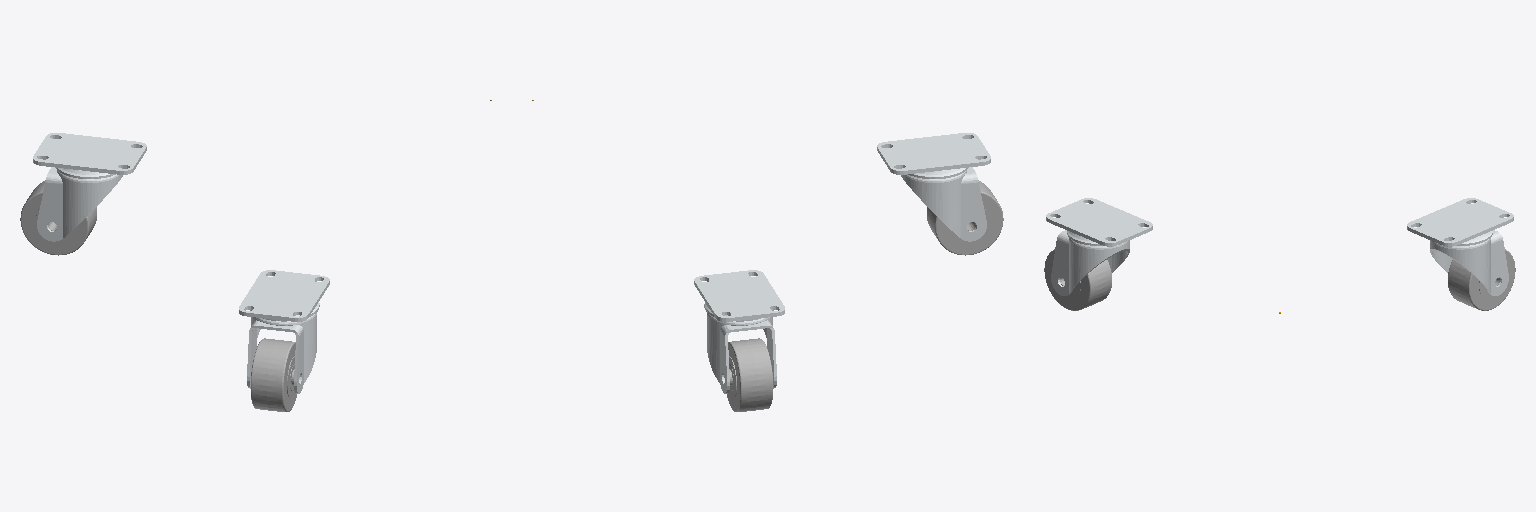
URDF robot description (Shared_Assembly_Robot_URDF):
<?xml version="1.0" encoding="utf-8"?>
<!-- This URDF was automatically created by SolidWorks to URDF Exporter! Originally created by [author] ([email redacted]) 
     Commit Version: 1.6.0-4-g7f85cfe  Build Version: 1.6.7995.38578
     For more information, please see http://wiki.ros.org/sw_urdf_exporter -->
<robot
  name="Shared_Assembly_Robot_URDF">
<link name="base_footprint">
    <visual>
        <origin xyz="0 0 0" rpy="0 0 0" />
        <geometry>
            <box size="0.001 0.001 0.001" />
        </geometry>
    </visual>
</link>

<joint name="base_footprint_joint" type="fixed">
    <origin xyz="0 0 0.001" rpy="0 0 0" />
    <parent link="base_footprint"/>
    <child link="base_link" />
</joint>

  <link
    name="base_link">
    <inertial>
      <origin
        xyz="-0.14743 -0.00064615 0.027414"
        rpy="0 0 0" />
      <mass
        value="10.319" />
      <inertia
        ixx="0.14128"
        ixy="-1.02E-07"
        ixz="-0.0013572"
        iyy="0.14302"
        iyz="6.92E-08"
        izz="0.27183" />
    </inertial>
    <visual>
      <origin
        xyz="0 0 0"
        rpy="0 0 0" />
      <geometry>
        <mesh
          filename="package://my_bot/urdf/meshes/visual/base_link.STL" />
      </geometry>
      <material
        name="">
        <color
          rgba="1 0 0 1" />
      </material>
    </visual>
    <collision>
      <origin
        xyz="0 0 0"
        rpy="0 0 0" />
      <geometry>
        <mesh
          filename="package://my_bot/urdf/meshes/visual/base_link.STL" />
      </geometry>
    </collision>
  </link>
  <link
    name="right_wheel">
    <inertial>
      <origin
        xyz="-3.13E-08 1.67E-07 0.01837713"
        rpy="0 0 0" />
      <mass
        value="0.454027315" />
      <inertia
        ixx="0.00120506"
        ixy="-6.74E-09"
        ixz="-2.65E-10"
        iyy="0.001205041"
        iyz="7.37E-10"
        izz="0.002290365" />
    </inertial>
    <visual>
      <origin
        xyz="0 0 0"
        rpy="0 0 0" />
      <geometry>
        <mesh
          filename="package://my_bot/urdf/meshes/visual/right_wheel.STL" />
      </geometry>
      <material
        name="">
        <color
          rgba="1 0 0 1" />
      </material>
    </visual>
    <collision>
      <origin
        xyz="0 0 0"
        rpy="0 0 0" />
      <geometry>
        <mesh
          filename="package://my_bot/urdf/meshes/visual/right_wheel.STL" />
      </geometry>
    </collision>
  </link>
  <joint
    name="rightwheel"
    type="continuous">
    <origin
      xyz="0 -0.2881 -0.06135"
      rpy="-1.5708 0 0" />
    <parent
      link="base_link" />
    <child
      link="right_wheel" />
    <axis
      xyz="0 0 1" />
    <limit
      effort="10"
      velocity="10" />
  </joint>
  <link
    name="left_wheel">
    <inertial>
      <origin
        xyz="2.99E-08 1.64E-07 -0.018377129"
        rpy="0 0 0" />
      <mass
        value="0.454027333" />
      <inertia
        ixx="0.00120506"
        ixy="6.67E-09"
        ixz="-2.51E-10"
        iyy="0.001205041"
        iyz="-7.22E-10"
        izz="0.002290365" />
    </inertial>
    <visual>
      <origin
        xyz="0 0 0"
        rpy="0 0 0" />
      <geometry>
        <mesh
          filename="package://my_bot/urdf/meshes/visual/left_wheel.STL" />
      </geometry>
      <material
        name="">
        <color
          rgba="0.752941176470588 0.752941176470588 0.752941176470588 1" />
      </material>
    </visual>
    <collision>
      <origin
        xyz="0 0 0"
        rpy="0 0 0" />
      <geometry>
        <mesh
          filename="package://my_bot/urdf/meshes/visual/left_wheel.STL" />
      </geometry>
    </collision>
  </link>
  <joint
    name="leftwheel"
    type="continuous">
    <origin
      xyz="0 0.2881 -0.06135"
      rpy="-1.5708 0 0" />
    <parent
      link="base_link" />
    <child
      link="left_wheel" />
    <axis
      xyz="0 0 -1" />
    <limit
      effort="10"
      velocity="10" />
  </joint>
  <link
    name="right_caster">
    <inertial>
      <origin
        xyz="-0.00189288936391879 -0.00189303217564021 -0.0154486692656115"
        rpy="0 0 0" />
      <mass
        value="0.201926777784479" />
      <inertia
        ixx="0.000122320156904671"
        ixy="-7.44295460927258E-06"
        ixz="-1.34595075717568E-05"
        iyy="0.000122320567060589"
        iyz="-1.34595571117696E-05"
        izz="0.000137634108009547" />
    </inertial>
    <visual>
      <origin
        xyz="0 0 0"
        rpy="0 0 0" />
      <geometry>
        <mesh
          filename="package://my_bot/urdf/meshes/visual/right_caster.STL" />
      </geometry>
      <material
        name="">
        <color
          rgba="0.898039215686275 0.917647058823529 0.929411764705882 1" />
      </material>
    </visual>
    <collision>
      <origin
        xyz="0 0 0"
        rpy="0 0 0" />
      <geometry>
        <mesh
          filename="package://my_bot/urdf/meshes/visual/right_caster.STL" />
      </geometry>
    </collision>
  </link>
  <joint
    name="rightcaster"
    type="continuous">
    <origin
      xyz="-0.31085 -0.17225 -0.048509"
      rpy="0 0 0" />
    <parent
      link="base_link" />
    <child
      link="right_caster" />
    <axis
      xyz="0 0 1" />
    <limit
      effort="10"
      velocity="10" />
  </joint>
  <link
    name="right_caster_wheel">
    <inertial>
      <origin
        xyz="0 0 -2.77555756156289E-17"
        rpy="0 0 0" />
      <mass
        value="0.0952572284399531" />
      <inertia
        ixx="3.95975514183799E-05"
        ixy="-2.23373147103173E-20"
        ixz="-8.05917790634335E-06"
        iyy="3.15383735120366E-05"
        iyz="2.46467311777879E-20"
        izz="3.95975514183799E-05" />
    </inertial>
    <visual>
      <origin
        xyz="0 0 0"
        rpy="0 0 0" />
      <geometry>
        <mesh
          filename="package://my_bot/urdf/meshes/visual/right_caster_wheel.STL" />
      </geometry>
      <material
        name="">
        <color
          rgba="0.752941176470588 0.752941176470588 0.752941176470588 1" />
      </material>
    </visual>
    <collision>
      <origin
        xyz="0 0 0"
        rpy="0 0 0" />
      <geometry>
        <mesh
          filename="package://my_bot/urdf/meshes/visual/right_caster_wheel.STL" />
      </geometry>
    </collision>
  </link>
  <joint
    name="rightcasterwheel"
    type="continuous">
    <origin
      xyz="-0.020116 -0.020116 -0.066675"
      rpy="-1.5708 0 0" />
    <parent
      link="right_caster" />
    <child
      link="right_caster_wheel" />
    <axis
      xyz="-0.70711 0 0.70711" />
    <limit
      effort="10"
      velocity="10" />
  </joint>
  <link
    name="left_caster">
    <inertial>
      <origin
        xyz="-0.0018930326533278 0.00189288874338733 -0.0154486695307401"
        rpy="0 0 0" />
      <mass
        value="0.201926785403223" />
      <inertia
        ixx="0.000122320571002746"
        ixy="7.44295463657139E-06"
        ixz="-1.34595580196749E-05"
        iyy="0.000122320160007248"
        iyz="1.34595064611714E-05"
        izz="0.000137634115077322" />
    </inertial>
    <visual>
      <origin
        xyz="0 0 0"
        rpy="0 0 0" />
      <geometry>
        <mesh
          filename="package://my_bot/urdf/meshes/visual/left_caster.STL" />
      </geometry>
      <material
        name="">
        <color
          rgba="0.898039215686275 0.917647058823529 0.929411764705882 1" />
      </material>
    </visual>
    <collision>
      <origin
        xyz="0 0 0"
        rpy="0 0 0" />
      <geometry>
        <mesh
          filename="package://my_bot/urdf/meshes/visual/left_caster.STL" />
      </geometry>
    </collision>
  </link>
  <joint
    name="leftcaster"
    type="continuous">
    <origin
      xyz="-0.31085 0.17225 -0.048509"
      rpy="0 0 0" />
    <parent
      link="base_link" />
    <child
      link="left_caster" />
    <axis
      xyz="0 0 1" />
    <limit
      effort="10"
      velocity="10" />
  </joint>
  <link
    name="left_caster_wheel">
    <inertial>
      <origin
        xyz="-5.55111512312578E-17 1.38777878078145E-17 2.77555756156289E-17"
        rpy="0 0 0" />
      <mass
        value="0.0952572284399531" />
      <inertia
        ixx="3.95975514183799E-05"
        ixy="-2.87324106914176E-21"
        ixz="8.05917790634335E-06"
        iyy="3.15383735120366E-05"
        iyz="-5.9032804633219E-21"
        izz="3.95975514183799E-05" />
    </inertial>
    <visual>
      <origin
        xyz="0 0 0"
        rpy="0 0 0" />
      <geometry>
        <mesh
          filename="package://my_bot/urdf/meshes/visual/left_caster_wheel.STL" />
      </geometry>
      <material
        name="">
        <color
          rgba="0.752941176470588 0.752941176470588 0.752941176470588 1" />
      </material>
    </visual>
    <collision>
      <origin
        xyz="0 0 0"
        rpy="0 0 0" />
      <geometry>
        <mesh
          filename="package://my_bot/urdf/meshes/visual/left_caster_wheel.STL" />
      </geometry>
    </collision>
  </link>
  <joint
    name="leftcasterwheel"
    type="continuous">
    <origin
      xyz="-0.020116 0.020116 -0.066675"
      rpy="-1.5708 0 0" />
    <parent
      link="left_caster" />
    <child
      link="left_caster_wheel" />
    <axis
      xyz="0.70711 0 0.70711" />
    <limit
      effort="10"
      velocity="10" />
  </joint>
</robot>

--- Render facts (derived) ---
The picture shows the robot from 3 angles, left to right: view 1: azimuth 30°, elevation 25°; view 2: azimuth 150°, elevation 25°; view 3: azimuth 270°, elevation 25°; orthographic projection.
Model Shared_Assembly_Robot_URDF with 8 links and 7 joints (6 continuous, 1 fixed), rooted at base_footprint, posed every joint at zero.
Visible links, largest first — view 1: left_caster, right_caster, right_caster_wheel, left_caster_wheel; view 2: right_caster, left_caster, left_caster_wheel, right_caster_wheel; view 3: right_caster, left_caster, right_caster_wheel, left_caster_wheel.
Link boxes in pixels (box(x1,y1,x2,y2)): left_caster: box(33, 133, 146, 241); right_caster: box(239, 270, 329, 393); right_caster_wheel: box(251, 338, 296, 411); left_caster_wheel: box(20, 180, 96, 255); right_caster: box(877, 133, 990, 241); left_caster: box(694, 270, 784, 393); left_caster_wheel: box(727, 338, 772, 411); right_caster_wheel: box(927, 180, 1003, 255); right_caster: box(1046, 198, 1152, 295); left_caster: box(1407, 198, 1513, 295); right_caster_wheel: box(1044, 249, 1111, 310); left_caster_wheel: box(1448, 249, 1515, 310).
Bounding box of the posed robot: 0.3638 × 0.4495 × 0.1464 m (x, y, z).
Meshes: 7 distinct files referenced, 4 mesh visuals loaded (4 binary STL); not drawn: 3 (reference not matched to a file when rendering).